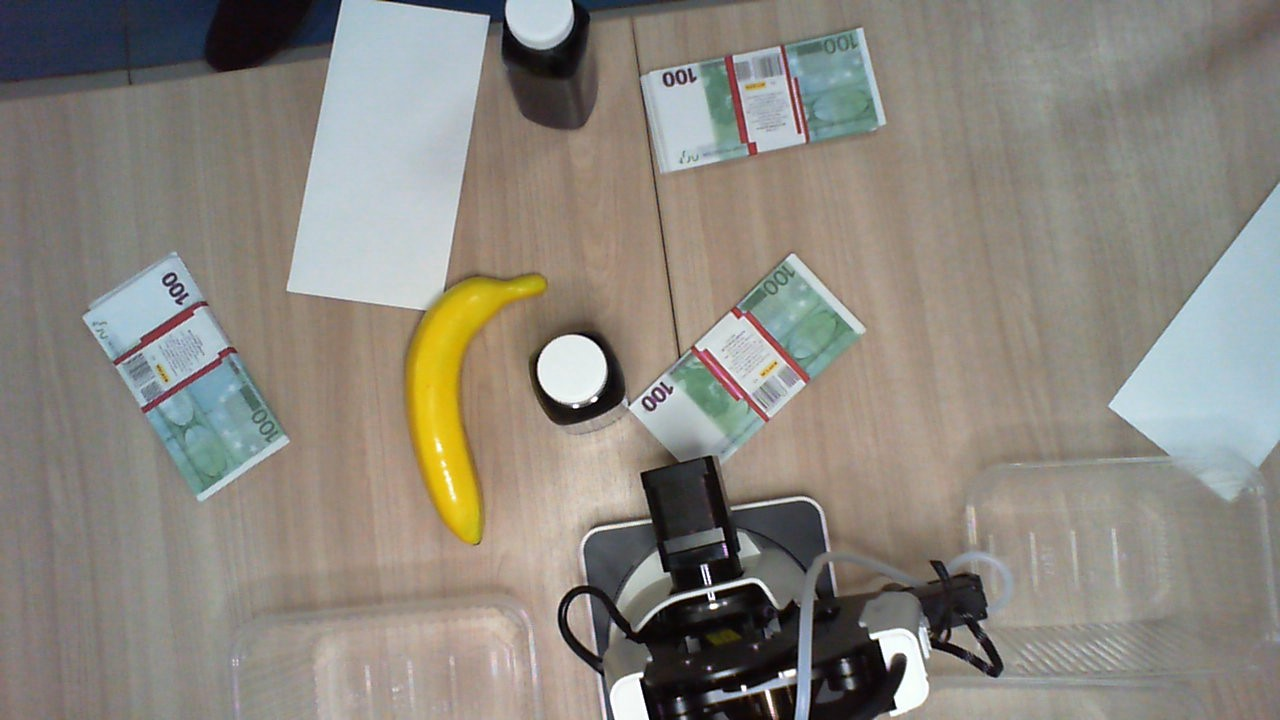banana: (403, 265, 550, 550)
bottle: (528, 325, 623, 425), (497, 1, 589, 72)
convert: (286, 1, 491, 311), (1112, 188, 1280, 500)
money: (631, 250, 867, 476), (83, 252, 293, 501), (638, 25, 886, 175)
